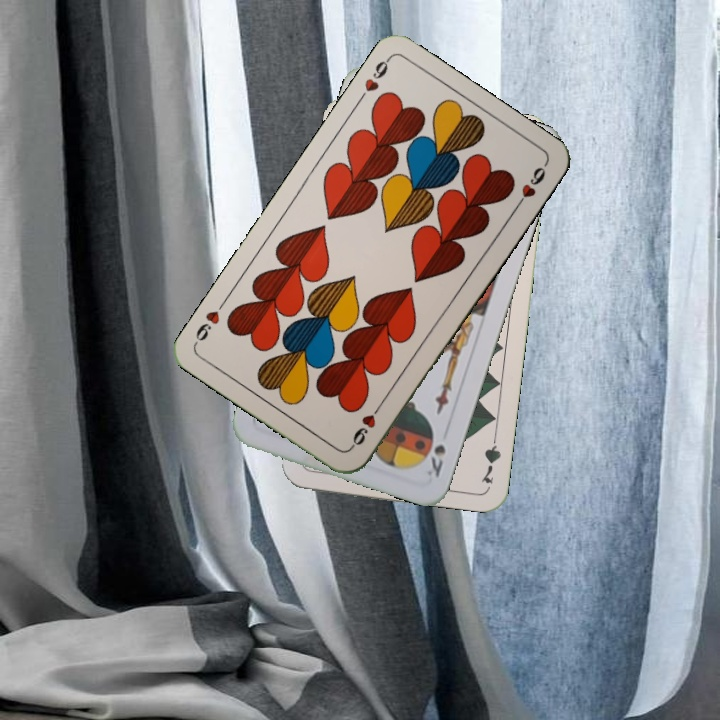G7: (477, 428, 504, 486)
H9: (353, 54, 393, 106), (346, 399, 385, 451)
SK: (422, 440, 449, 480)
